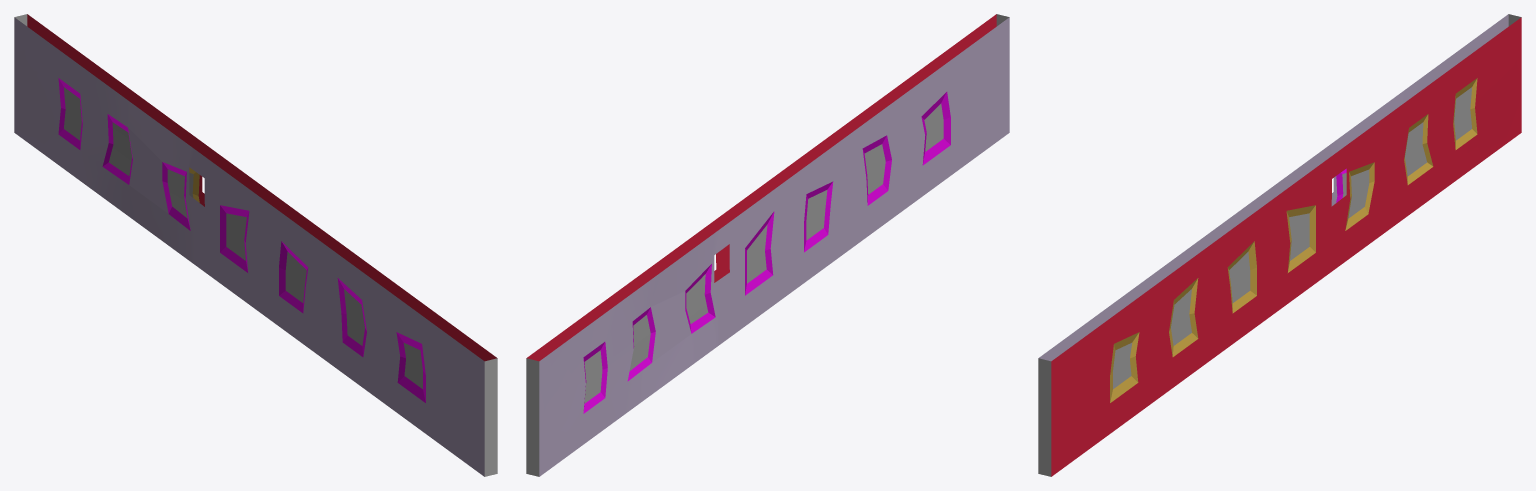
File: SM_SchoolWallSoutTop_3.1.fbx
3 renders of one model, left to right at view 1: azimuth 30°, elevation 25°; view 2: azimuth 150°, elevation 25°; view 3: azimuth 330°, elevation 25°, orthographic.
Parts seen in each view (by area): view 1: SM_SchoolWallSoutTop_3_1; view 2: SM_SchoolWallSoutTop_3_1; view 3: SM_SchoolWallSoutTop_3_1.
Part boxes in pixels (x1,y1,x2,y2): SM_SchoolWallSoutTop_3_1: (14, 14, 497, 476); SM_SchoolWallSoutTop_3_1: (526, 14, 1009, 476); SM_SchoolWallSoutTop_3_1: (1038, 14, 1521, 476).
Size of the model in its own units: 60.74 by 510 by 3760.
